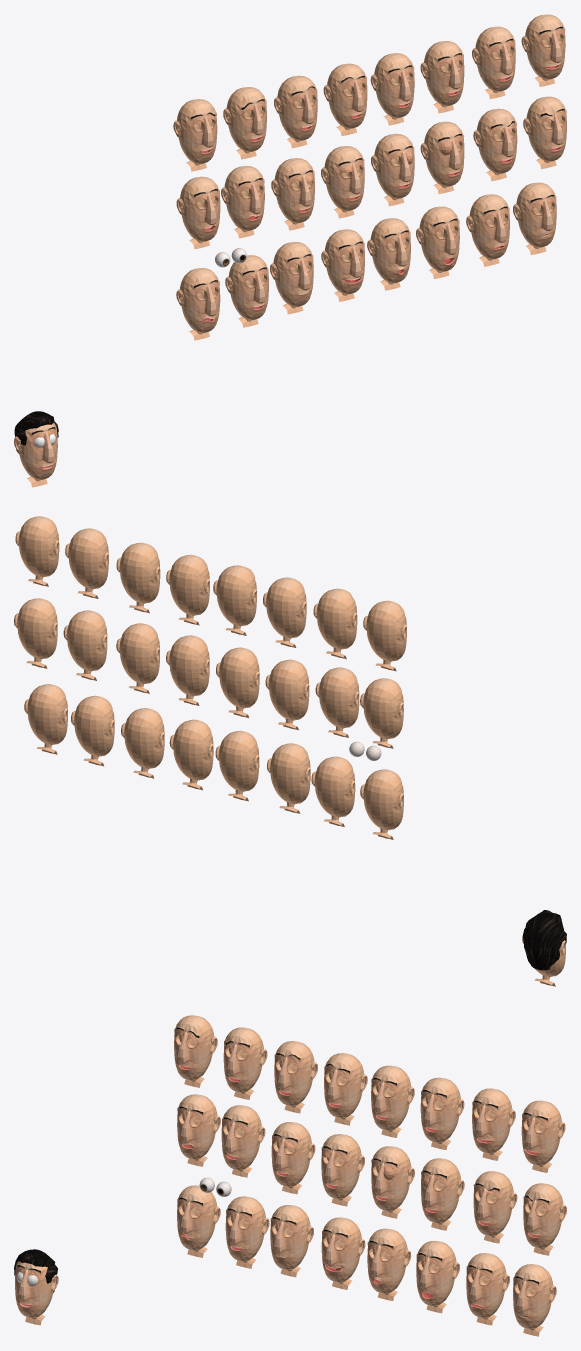
The model's file is tguy1_9headOnly02.obj.
3 views of the same model, one above another, from view 1: azimuth 30°, elevation 25°; view 2: azimuth 150°, elevation 25°; view 3: azimuth 330°, elevation 25° (orthographic).
Visible parts, largest first — view 1: tguy1_mt_Rmside, tguy1_mt_mClose, tguy1_mt_ReyeBup, tguy1_mt_ReyeCloseA01, tguy1_mt_mOpen, tguy1_mt_LSadEyeB, tguy1_mt_LeyeBup, tguy1_mt_LeyeLidUp, tguy1_mt_LeyeCloseA01, tguy1_mt_LmsideUp, tguy1_mt_RmsideUp, tguy1_mt_RSadEyeB (+14 smaller); view 2: tguy1_mt_headbase, tguy1_mt_Lungry, tguy1_mt_RmsideUp, tguy1_mt_ReyeLidUp, tguy1_mt_LeyeCloseA01, tguy1_mt_oOo, tguy1_mt_LeyeCloseA, tguy1_mt_ReyeBup, tguy1_mt_Smile, tguy1_mt_Rmside, tguy1_mt_mSad, tguy1_mt_RSadEyeB (+13 smaller); view 3: tguy1_mt_ReyeCloseA, tguy1_mt_LeyeBup, tguy1_mt_oOo, tguy1_mt_RSadEyeB, tguy1_mt_Smile, tguy1_mt_mOpen, tguy1_mt_mSad, tguy1_mt_Rungry, tguy1_mt_LeyeCloseA01, tguy1_mt_Rmside, tguy1_mt_LmsideUp, tguy1_mt_mClose (+14 smaller).
Part boxes in pixels (x1=…): tguy1_mt_Rmside: x1=521, y1=14, x2=565, y2=86; tguy1_mt_mClose: x1=270, y1=242, x2=313, y2=314; tguy1_mt_ReyeBup: x1=323, y1=63, x2=367, y2=135; tguy1_mt_ReyeCloseA01: x1=420, y1=121, x2=464, y2=193; tguy1_mt_mOpen: x1=416, y1=206, x2=459, y2=278; tguy1_mt_LSadEyeB: x1=173, y1=99, x2=217, y2=171; tguy1_mt_LeyeBup: x1=274, y1=75, x2=317, y2=148; tguy1_mt_LeyeLidUp: x1=370, y1=53, x2=414, y2=125; tguy1_mt_LeyeCloseA01: x1=371, y1=133, x2=414, y2=206; tguy1_mt_LmsideUp: x1=176, y1=176, x2=220, y2=249; tguy1_mt_RmsideUp: x1=221, y1=166, x2=264, y2=238; tguy1_mt_RSadEyeB: x1=223, y1=87, x2=266, y2=159; tguy1_mt_headbase: x1=311, y1=756, x2=355, y2=826; tguy1_mt_Lungry: x1=63, y1=610, x2=107, y2=680; tguy1_mt_RmsideUp: x1=315, y1=667, x2=359, y2=737; tguy1_mt_ReyeLidUp: x1=116, y1=542, x2=160, y2=613; tguy1_mt_LeyeCloseA01: x1=166, y1=635, x2=209, y2=705; tguy1_mt_oOo: x1=169, y1=719, x2=213, y2=790; tguy1_mt_LeyeCloseA: x1=265, y1=659, x2=309, y2=730; tguy1_mt_ReyeBup: x1=213, y1=565, x2=256, y2=635; tguy1_mt_Smile: x1=215, y1=730, x2=259, y2=801; tguy1_mt_Rmside: x1=15, y1=516, x2=59, y2=586; tguy1_mt_mSad: x1=71, y1=695, x2=114, y2=766; tguy1_mt_RSadEyeB: x1=313, y1=588, x2=357, y2=659; tguy1_mt_ReyeCloseA: x1=321, y1=1134, x2=364, y2=1206; tguy1_mt_LeyeBup: x1=274, y1=1041, x2=317, y2=1113; tguy1_mt_oOo: x1=367, y1=1228, x2=411, y2=1300; tguy1_mt_RSadEyeB: x1=223, y1=1027, x2=267, y2=1099; tguy1_mt_Smile: x1=321, y1=1217, x2=365, y2=1289; tguy1_mt_mOpen: x1=416, y1=1241, x2=459, y2=1313; tguy1_mt_mSad: x1=466, y1=1253, x2=509, y2=1325; tguy1_mt_Rungry: x1=523, y1=1183, x2=566, y2=1255; tguy1_mt_LeyeCloseA01: x1=371, y1=1146, x2=414, y2=1218; tguy1_mt_Rmside: x1=521, y1=1100, x2=565, y2=1172; tguy1_mt_LmsideUp: x1=177, y1=1094, x2=220, y2=1166; tguy1_mt_mClose: x1=270, y1=1205, x2=313, y2=1277.
Bounding box in the file's own units: 149 × 89.42 × 11.78.
